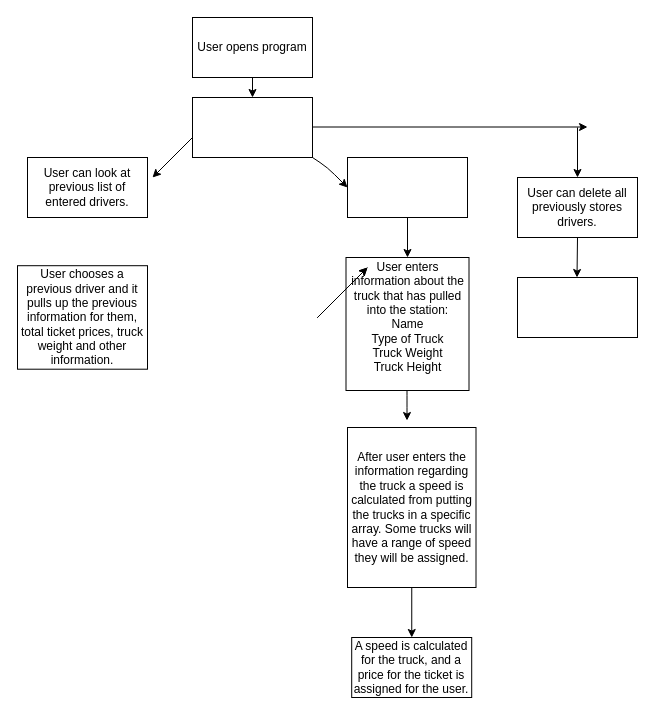
This 655x715 diagram has some shape labels left out. Each missing label, with the centre of its shape:
"All drivers are deleted and the program is essentially fresh." goes at [577,307].
"GUI screen is open for user to do as he pleases." goes at [252,127].
"User can create a new driver." goes at [407,187].
